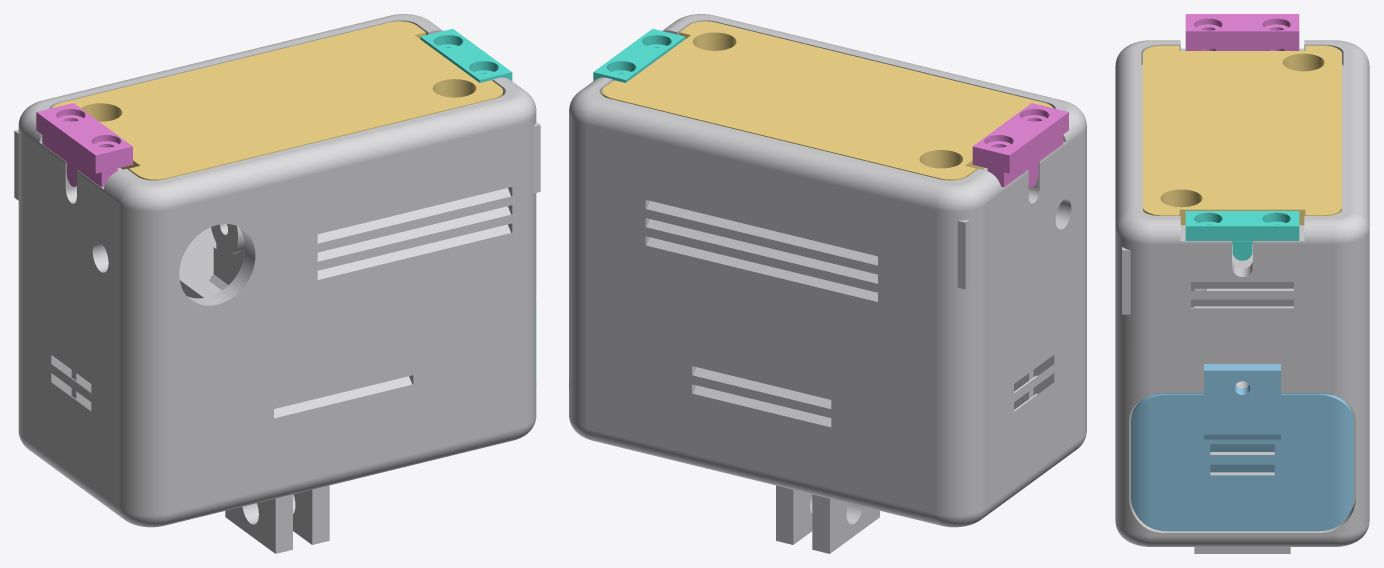
The model's file is sender850.glb.
The picture shows the model from 3 angles, left to right: view 1: azimuth 30°, elevation 25°; view 2: azimuth 150°, elevation 25°; view 3: azimuth 270°, elevation 25°; orthographic projection. The views are drawn at different scales.
Parts seen in each view (by area): view 1: =>[0:1:1:3], =>[0:1:1:5], =>[0:1:1:10], =>[0:1:1:11]; view 2: =>[0:1:1:3], =>[0:1:1:5], =>[0:1:1:10], =>[0:1:1:11]; view 3: =>[0:1:1:3], =>[0:1:1:5], =>[0:1:1:4], =>[0:1:1:10], =>[0:1:1:11].
Part boxes in pixels (<box>): =>[0:1:1:3]: <box>14,14,540,553</box>; =>[0:1:1:5]: <box>52,21,502,180</box>; =>[0:1:1:10]: <box>36,103,132,187</box>; =>[0:1:1:11]: <box>420,28,512,82</box>; =>[0:1:1:3]: <box>569,14,1086,553</box>; =>[0:1:1:5]: <box>602,21,1052,180</box>; =>[0:1:1:10]: <box>972,103,1068,187</box>; =>[0:1:1:11]: <box>593,28,685,82</box>; =>[0:1:1:3]: <box>1115,40,1369,553</box>; =>[0:1:1:5]: <box>1143,45,1341,225</box>; =>[0:1:1:4]: <box>1131,364,1353,531</box>; =>[0:1:1:10]: <box>1185,14,1299,50</box>; =>[0:1:1:11]: <box>1185,211,1299,260</box>.
Size of the model in its own units: 0.0744 by 0.0735 by 0.0395.
